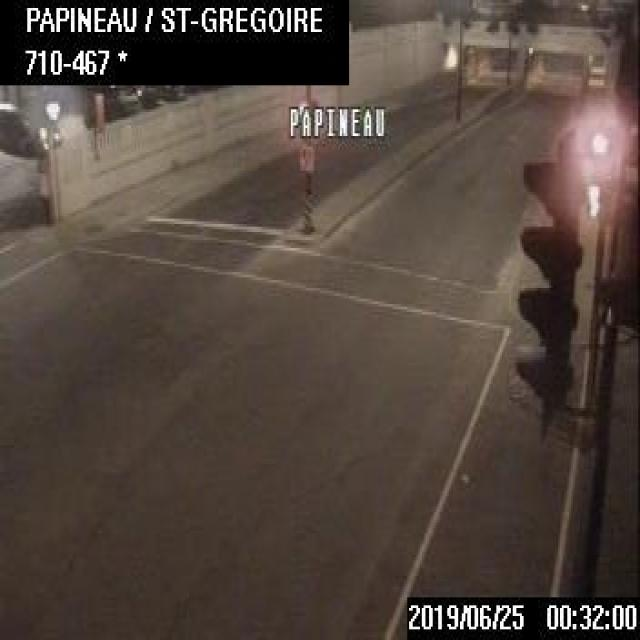vehicle: (0, 102, 60, 158)
